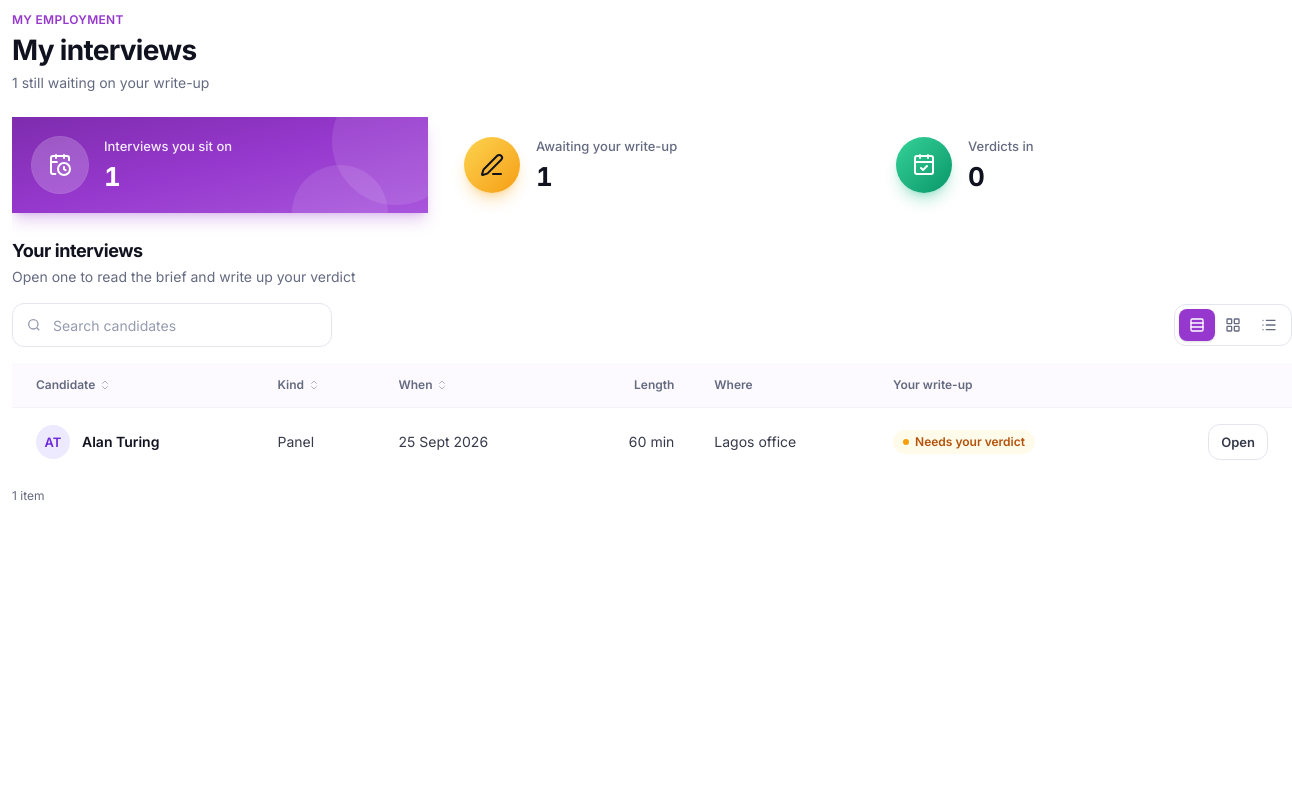
Scenario: MyInterviews › writing a verdict › offers four verdicts and no neutral one
The width and height of the screenshot is (1292, 807).
Click the button "Open": (1238, 442) [1208, 424, 1268, 460]
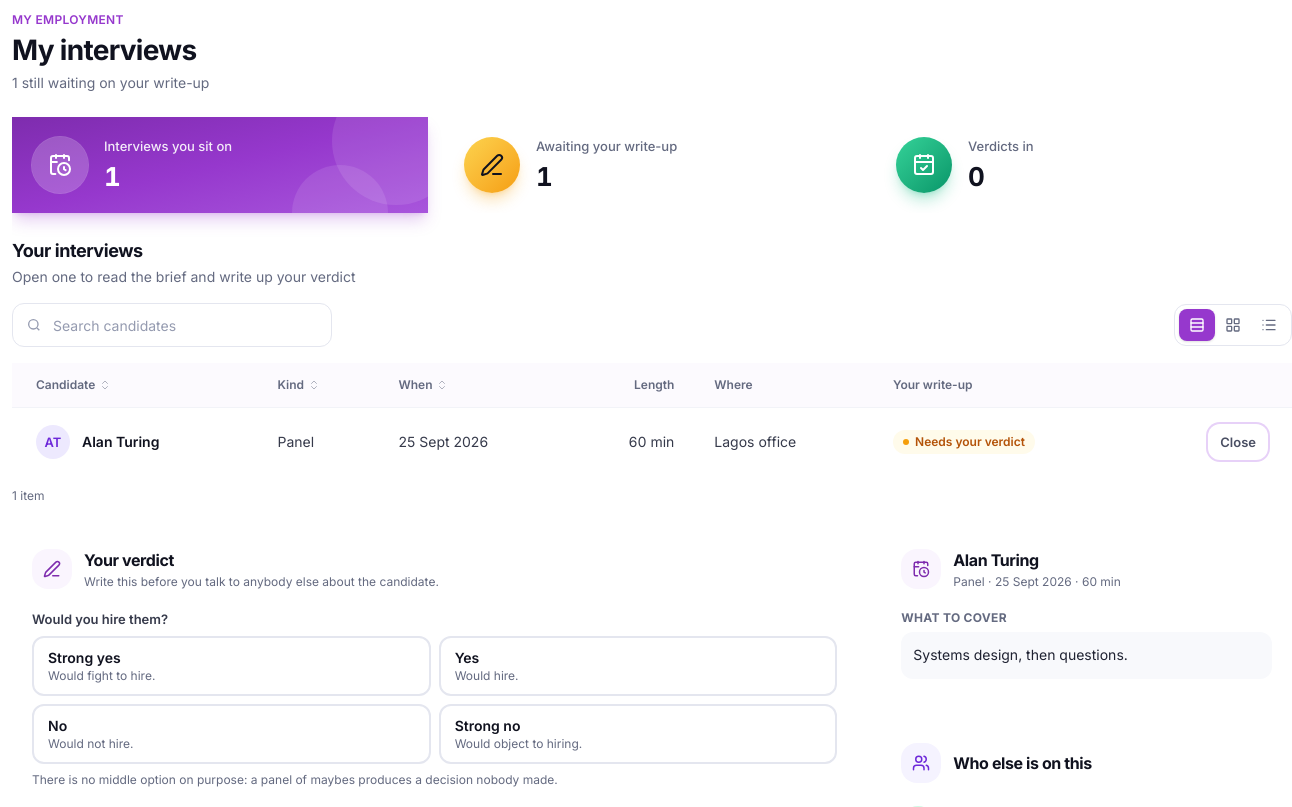
Expected: the button "Strong yes Would fight to hire." is shown, [32, 636, 431, 696]
Expected: the button "Yes Would hire." is shown, [439, 636, 837, 696]
Expected: the button "No Would not hire." is shown, [32, 704, 431, 764]
